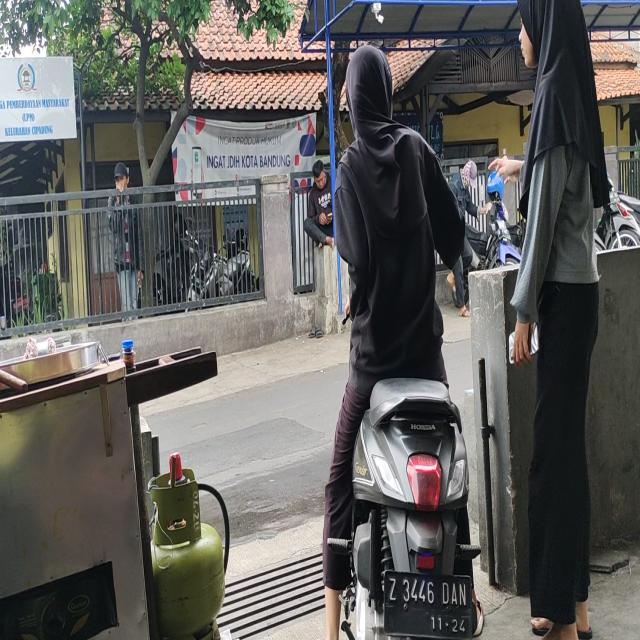no-helmet: (345, 47, 396, 126)
